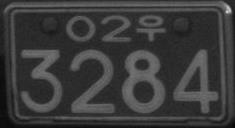0: (65, 14, 95, 42)
2: (70, 47, 116, 114), (101, 13, 132, 43)
3: (19, 47, 63, 113)
4: (172, 48, 219, 114)
8: (120, 49, 166, 114)
우: (135, 14, 166, 42)
